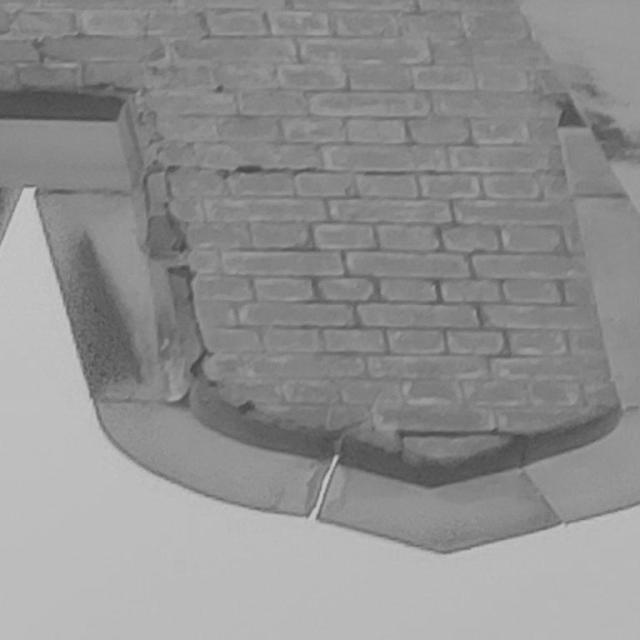crack: (162, 166, 320, 415)
